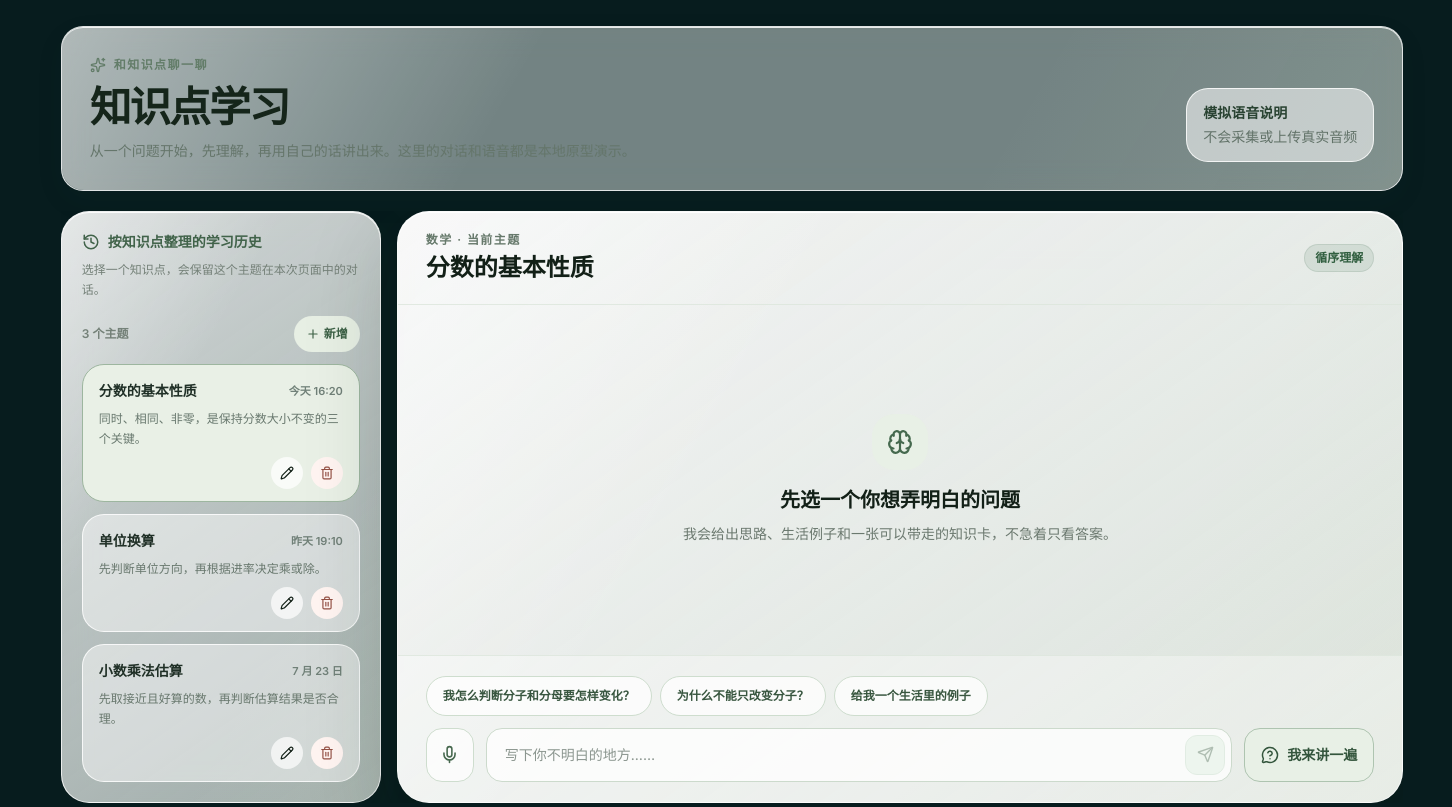
Test: LearningPage › rejects a malformed learning reply without rendering it or changing mastery
Type "请解释一下" into the field named "输入学习问题". click: (835, 755)
box: [493,735,1177,775]
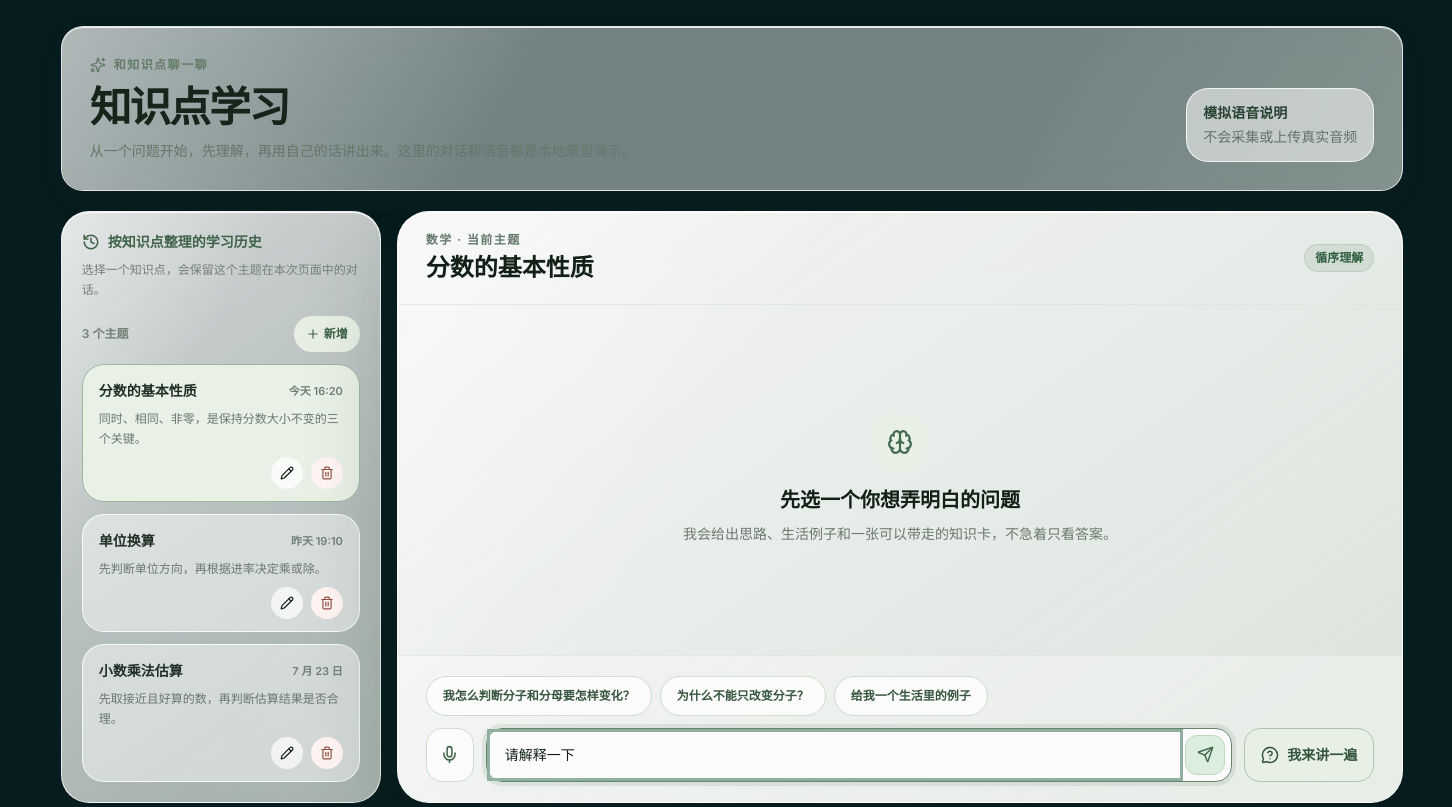
Click the button named "发送问题". click: (1205, 755)
box: [1185,735,1225,775]
(page scrolled)
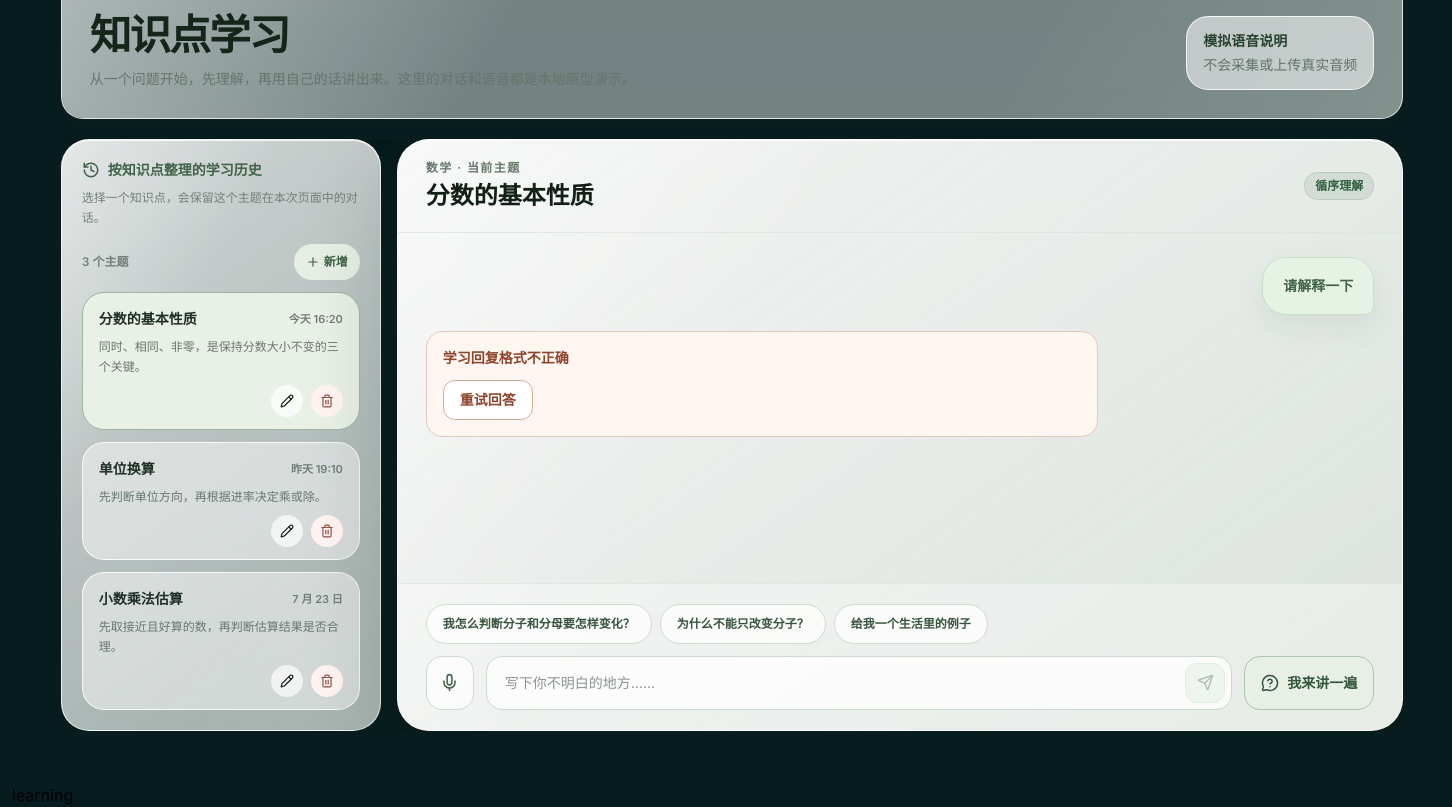
Expected: the text named "小雨当前掌握度" reads "learning", [12,785,73,805]
Expected: the message reads "学习回复格式不正确", [443,349,569,366]
Expected: the button "重试回答" is shown, [443,380,533,420]
